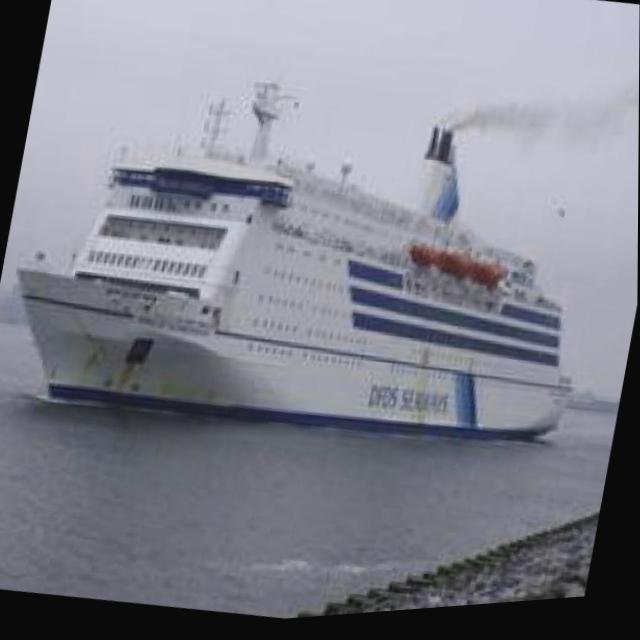ship2: (15, 87, 573, 454)
